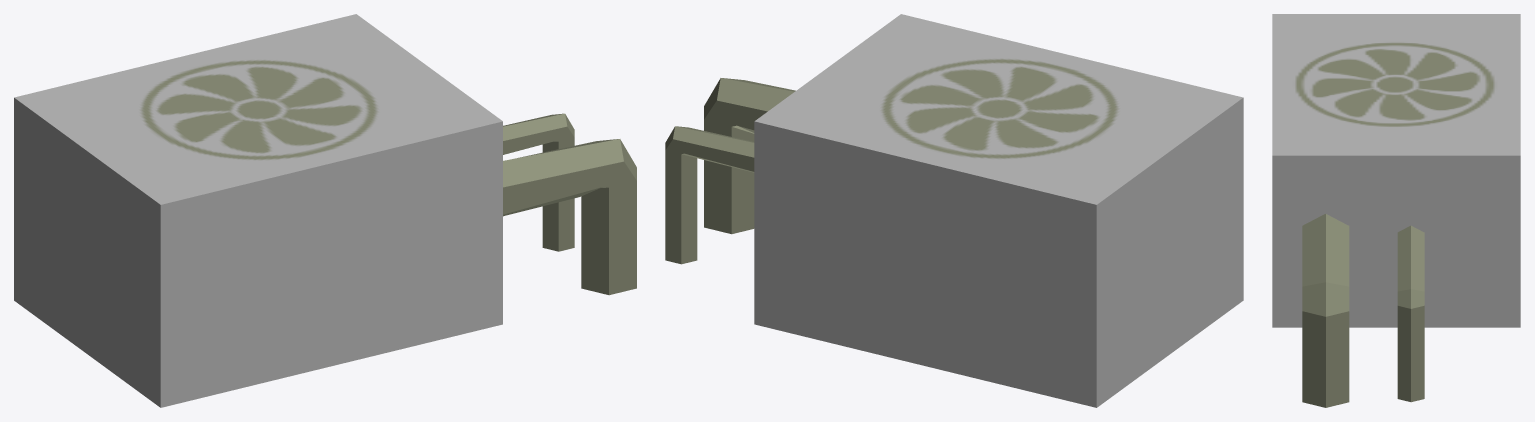
File: props-roof-prop-air.glb
3 renders of one model, left to right at view 1: azimuth 30°, elevation 25°; view 2: azimuth 150°, elevation 25°; view 3: azimuth 270°, elevation 25°, orthographic. The views are drawn at different scales.
Visible parts, largest first — view 1: model; view 2: model; view 3: model.
Boxes of the visible parts, x1,y1,x2,y2 form: model: [14, 14, 636, 407]; model: [665, 14, 1243, 407]; model: [1272, 14, 1520, 407].
Size of the model in its own units: 2.82 by 1.15 by 1.41.
Materials: 1 (1 with a texture image).
